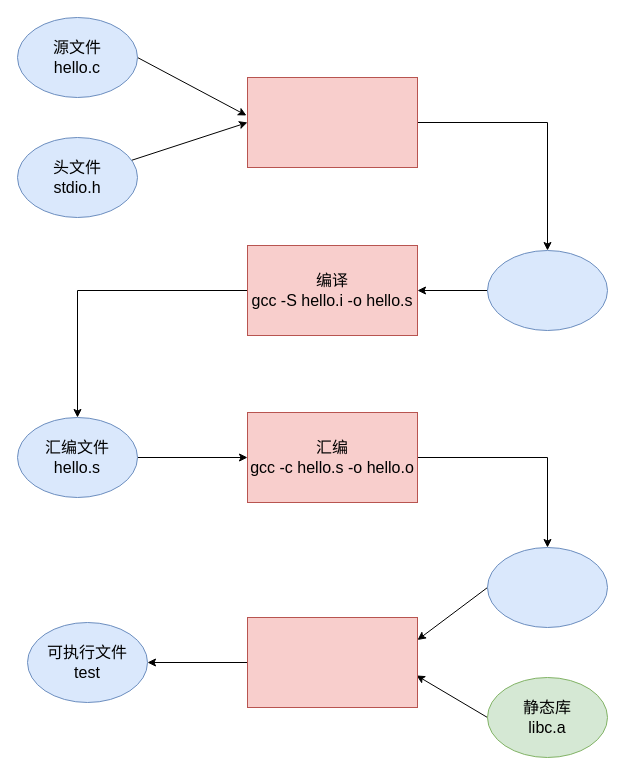
Image size: 625x775. Some labels were removed from this diagram. Each missing label, with the centre of its shape:
目标文件 hello.o: pixel 547 587
链接 ld hello.o ...: pixel 332 662
预编译 gcc -E hello.c -o hello.i: pixel 332 122
预编译文件 hello.i: pixel 547 290
